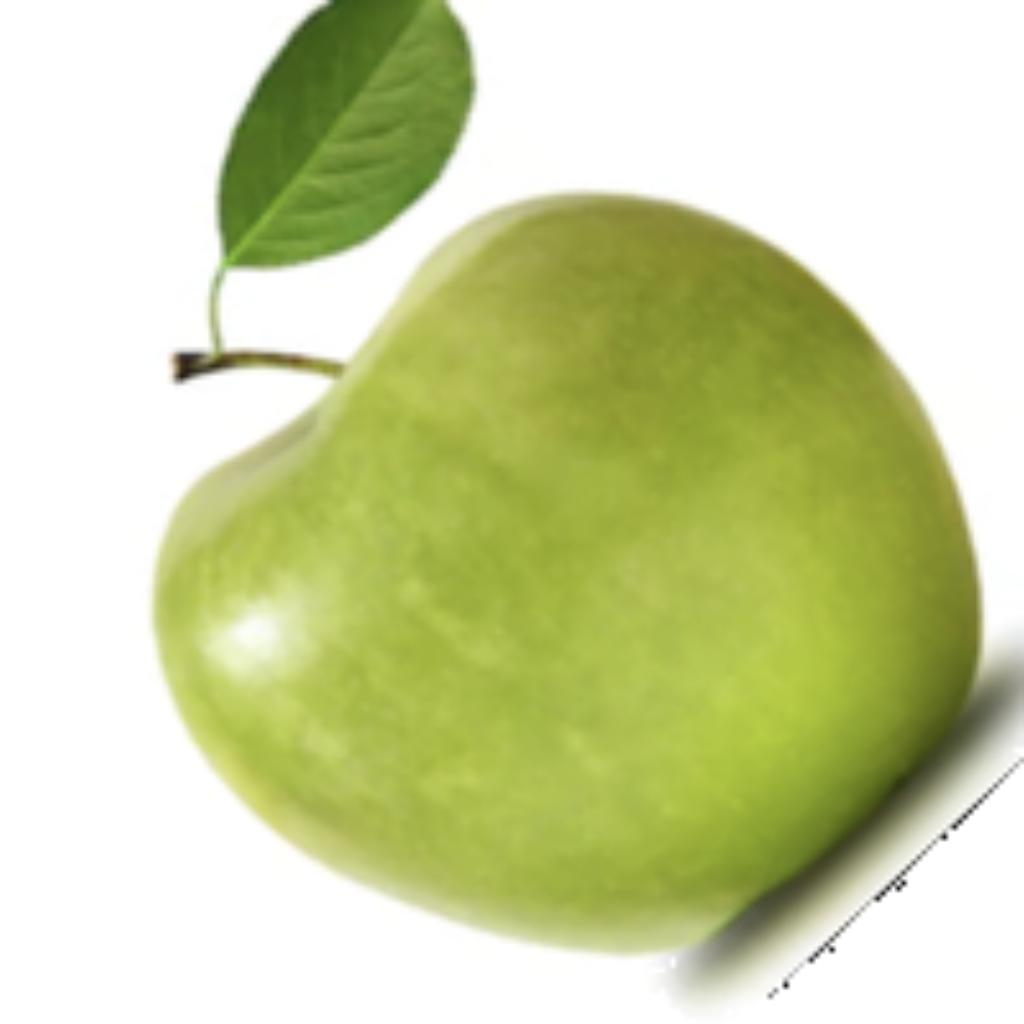apple: (143, 0, 1019, 1014)
